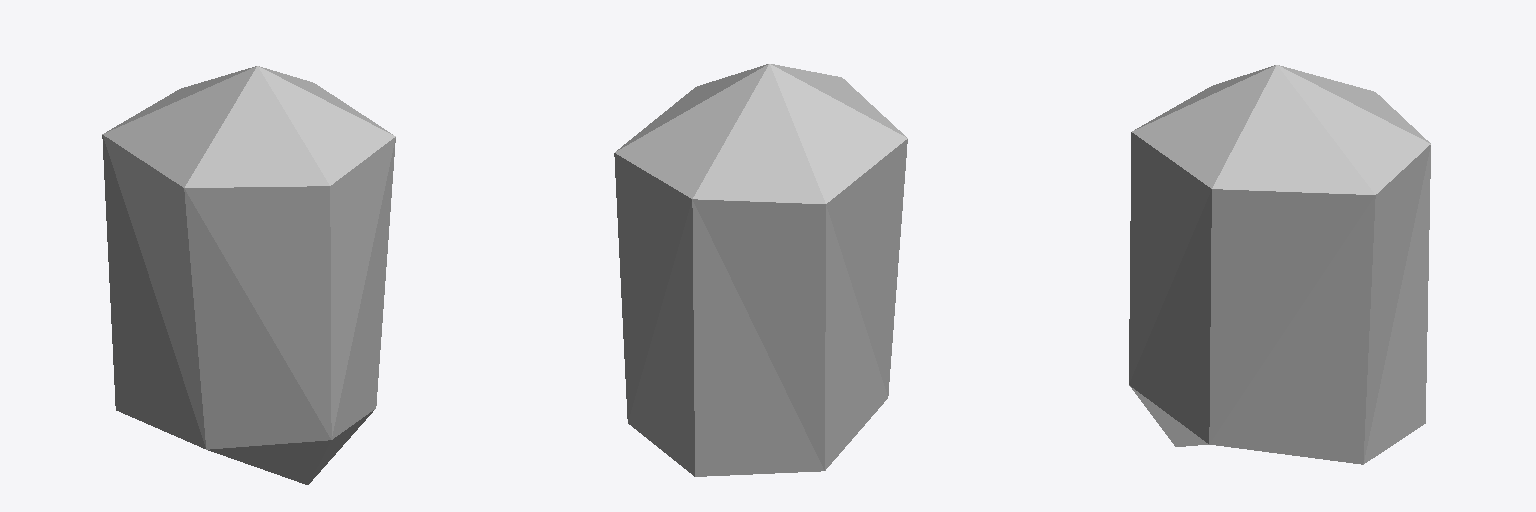
The model's file is npc_head.obj.
The picture shows the model from 3 angles: view 1: azimuth 30°, elevation 25°; view 2: azimuth 150°, elevation 25°; view 3: azimuth 270°, elevation 25°; orthographic projection.
Size of the model in its own units: 0.5141 by 0.8877 by 0.6355.